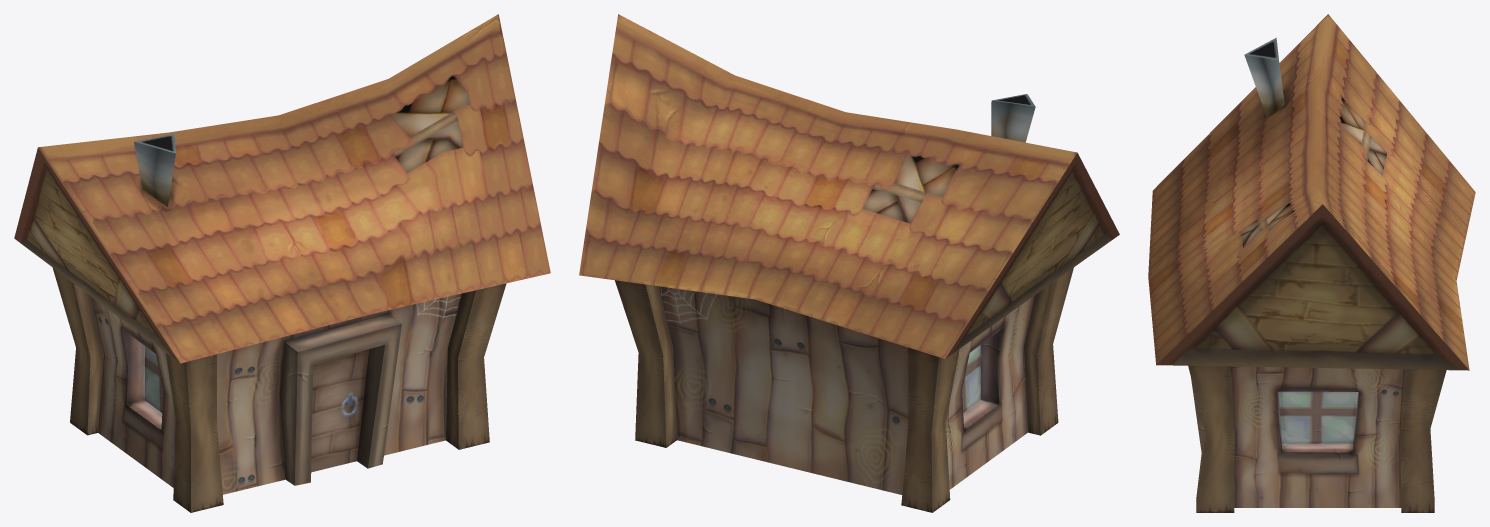
File: BKS_Set3_HouseA.fbx
The picture shows the model from 3 angles, left to right: view 1: azimuth 30°, elevation 25°; view 2: azimuth 150°, elevation 25°; view 3: azimuth 270°, elevation 25°; orthographic projection. The views are drawn at different scales.
Visible parts, largest first — view 1: houseA; view 2: houseA; view 3: houseA.
Boxes of the visible parts, bbox=[...] form: houseA: bbox=[14, 14, 550, 512]; houseA: bbox=[579, 14, 1119, 512]; houseA: bbox=[1148, 14, 1475, 512].
Bounding box in the file's own units: 9.57 × 7.21 × 6.22.
